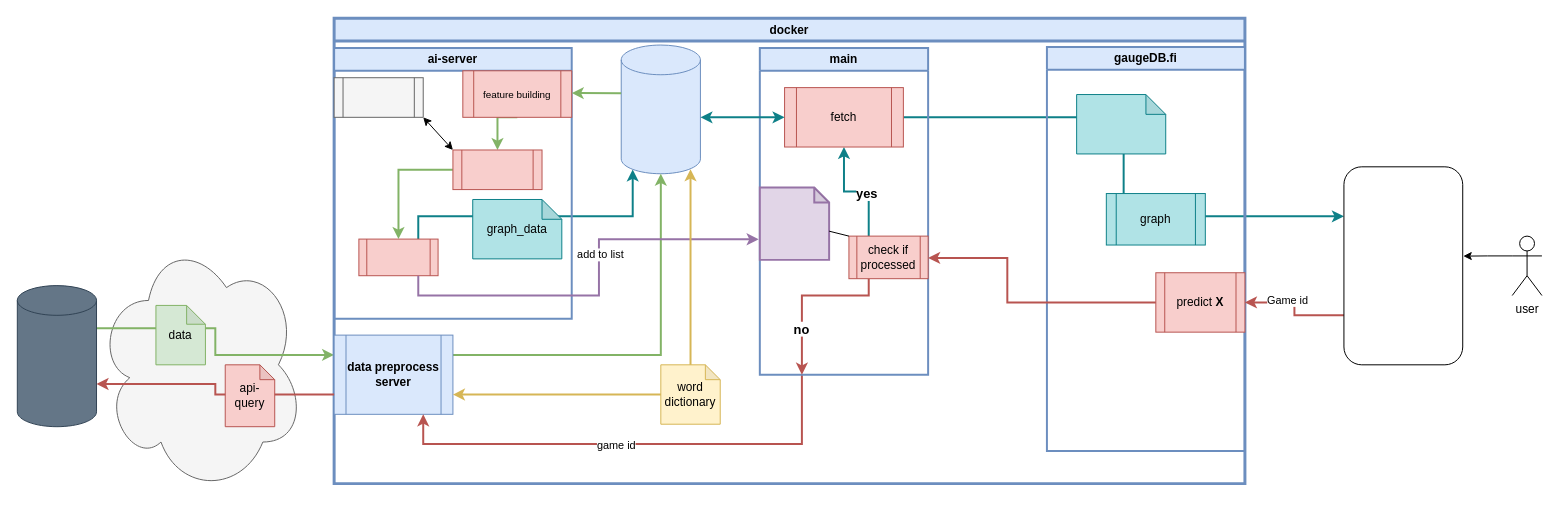
This 1559x511 diagram has some shape labels left out. Each missing label, with the box of its shape:
AI load/build: (452, 149, 542, 190)
AI save/store: (333, 77, 423, 117)
browser: (1343, 166, 1463, 365)
database: (620, 44, 700, 174)
package.json: (1076, 94, 1166, 154)
predict: (358, 238, 438, 276)
processed games list: (758, 186, 830, 260)
Steam: (16, 285, 97, 427)
